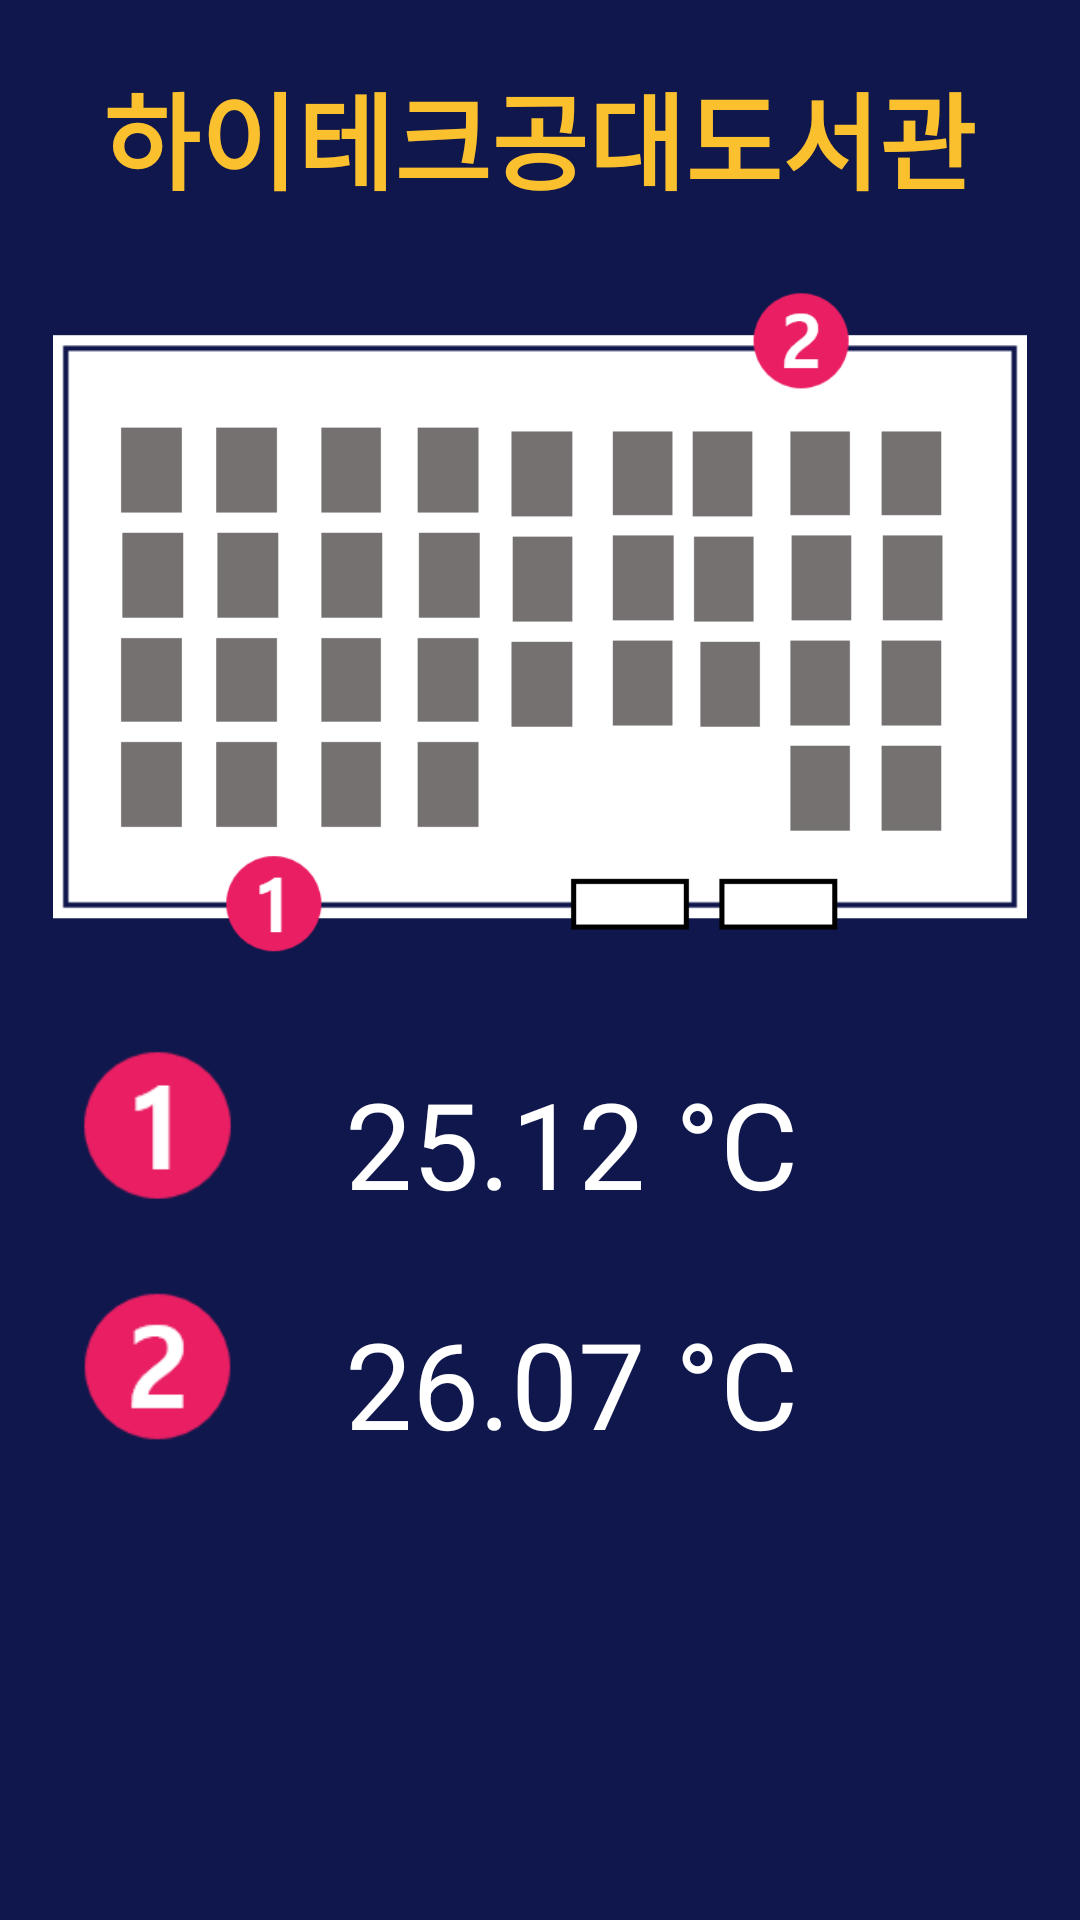

Screen size 1080px x 1920px. Icon name, then its box in pixels as {"left": x1, "top": y1, "right": x2, "bottom": y2}:
number: {"left": 84, "top": 1052, "right": 231, "bottom": 1199}, {"left": 84, "top": 1293, "right": 231, "bottom": 1440}
